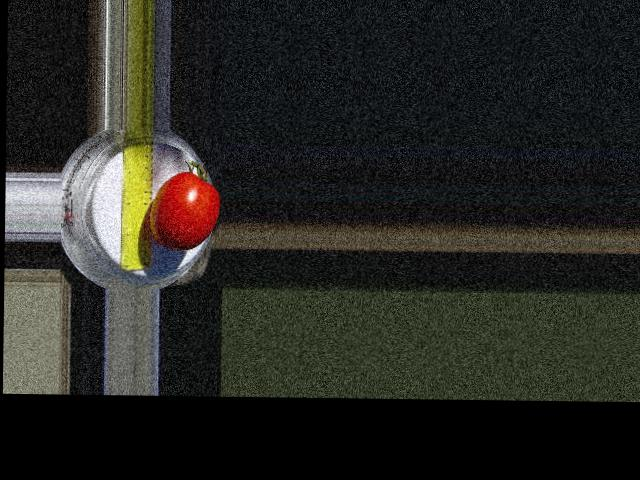tomato: (148, 170, 221, 250)
